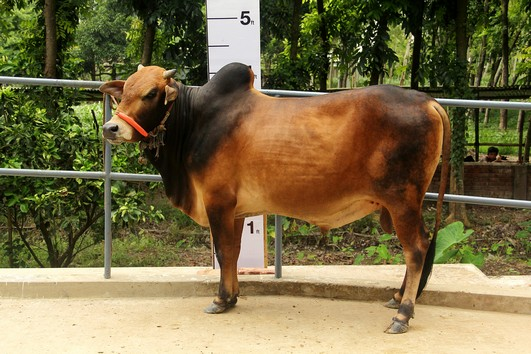cow: (96, 53, 456, 337)
